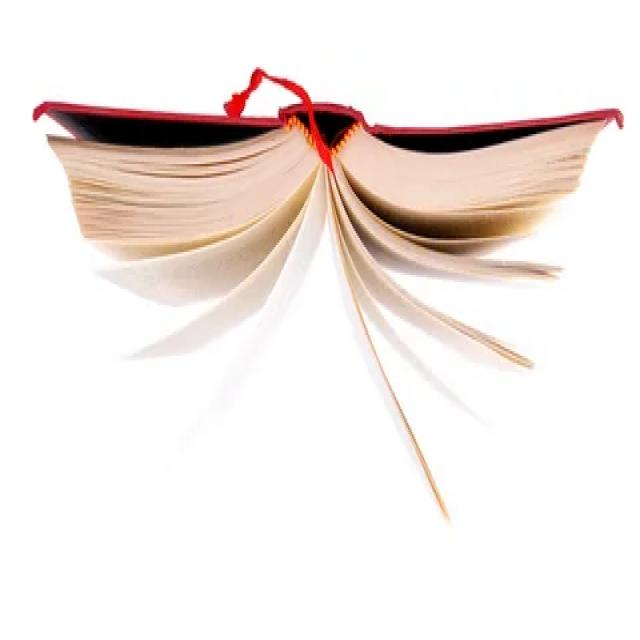book: (24, 49, 640, 518)
